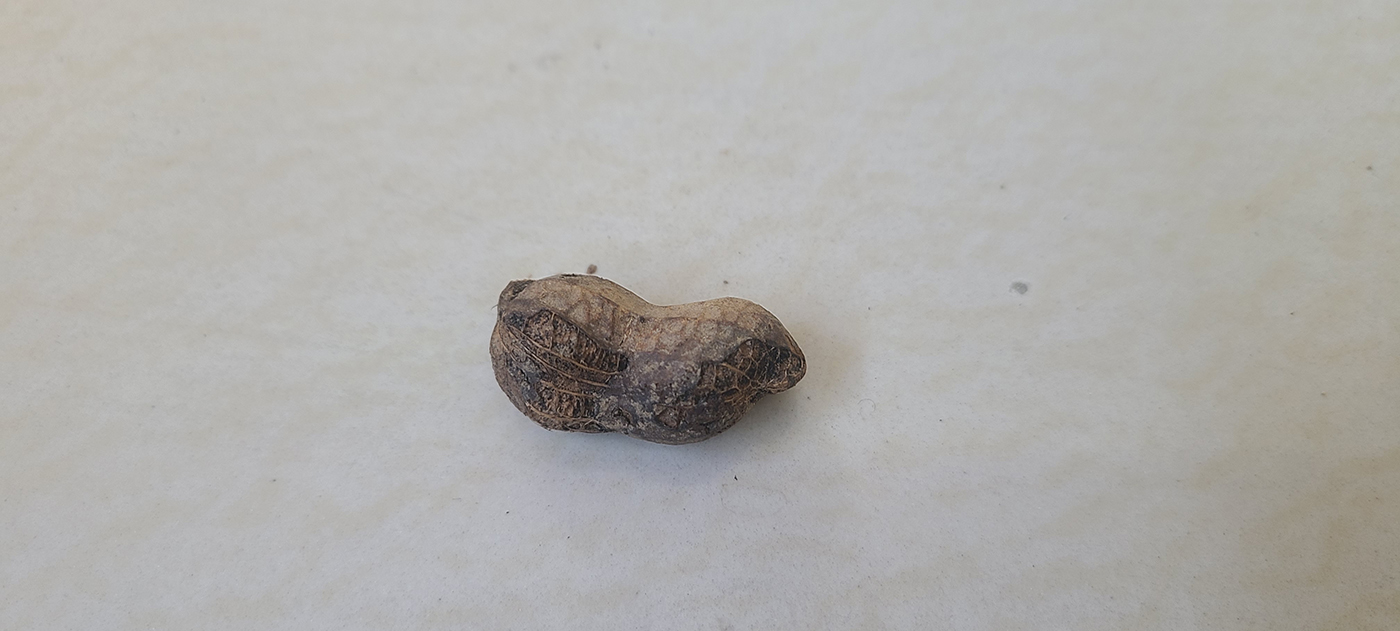l: (489, 267, 809, 449)
